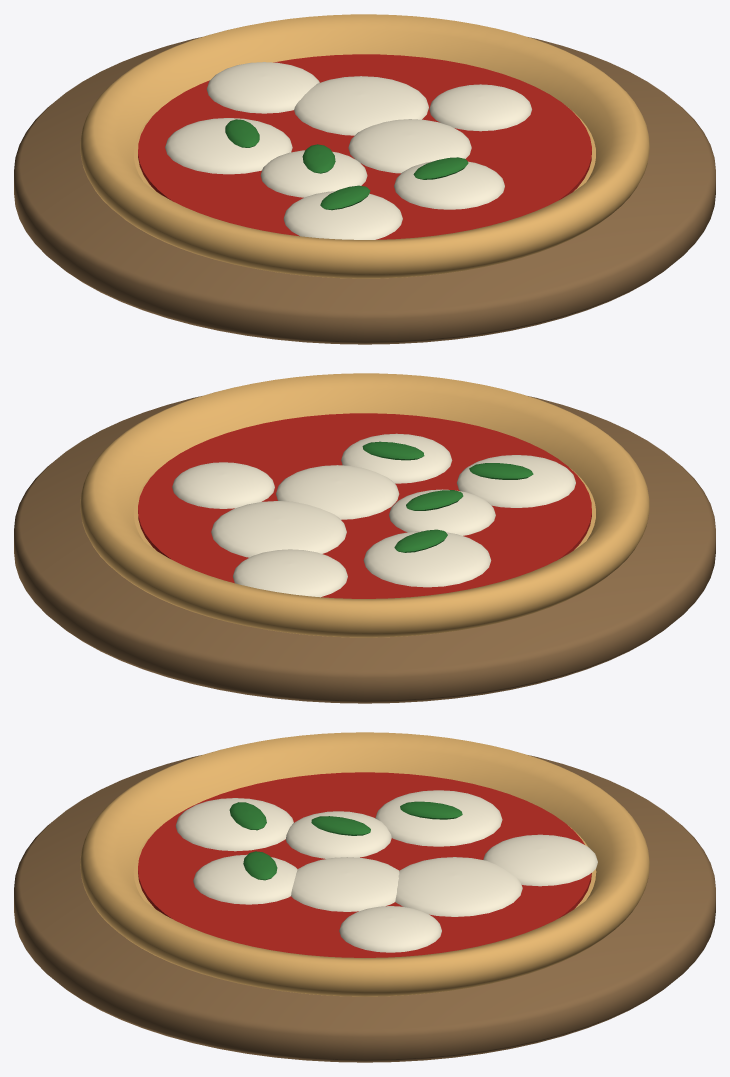
The model's file is pizza.glb.
The picture shows the model from 3 angles, top to bottom: view 1: azimuth 30°, elevation 25°; view 2: azimuth 150°, elevation 25°; view 3: azimuth 270°, elevation 25°; orthographic projection.
Visible parts, largest first — view 1: pizza; view 2: pizza; view 3: pizza.
Part boxes in pixels (x1,y1,x2,y2): pizza: (14, 14, 715, 344); pizza: (14, 373, 715, 703); pizza: (14, 732, 715, 1062).
Size of the model in its own units: 0.34 by 0.0375 by 0.34.
